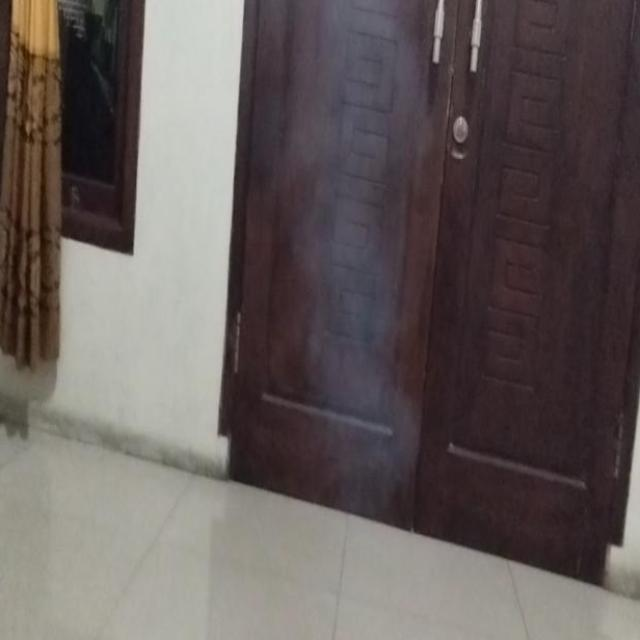fire: (291, 0, 422, 484)
